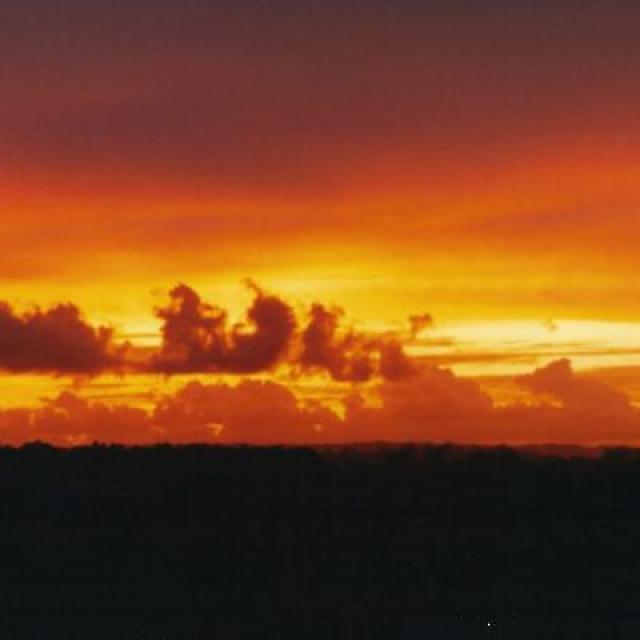As: (1, 284, 425, 390)
